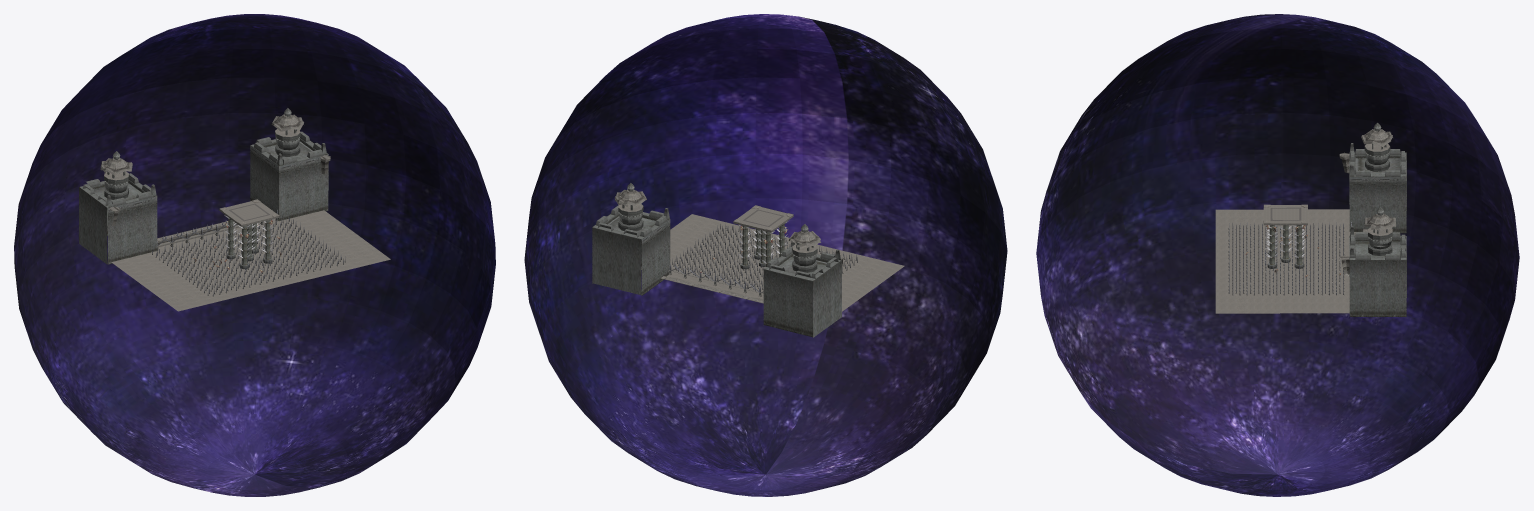
Rendered from PitBottom.glb.
3 views of the same model, side by side, from view 1: azimuth 30°, elevation 25°; view 2: azimuth 150°, elevation 25°; view 3: azimuth 270°, elevation 25° (orthographic).
Parts seen in each view (by area): view 1: Sphere, DrawCa2006_70da0362.d_DrawCa2006_70da03, DrawCal561_83d2f6d3.d_DrawCal561_83d2f6, DrawCa1788_060c61bc.d_DrawCa1788_060c61, DrawCa1773_060c61bc.d_DrawCa1773_060c61, DrawCa2359_060c61bc.d_DrawCa2359_060c61, DrawCa1772_060c61bc.d_DrawCa1772_060c61, DrawCa2006_02f9a41a.d_DrawCa2006_02f9a4, DrawCa2190_060c61bc.d_DrawCa2190_060c61, DrawCa1787_060c61bc.d_DrawCa1787_060c61; view 2: Sphere, DrawCa2006_70da0362.d_DrawCa2006_70da03, DrawCa2358_060c61bc.d_DrawCa2358_060c61, DrawCa2357_060c61bc.d_DrawCa2357_060c61, DrawCal561_83d2f6d3.d_DrawCal561_83d2f6, DrawCa2359_060c61bc.d_DrawCa2359_060c61, DrawCa2190_060c61bc.d_DrawCa2190_060c61, DrawCa1787_060c61bc.d_DrawCa1787_060c61, DrawCa1772_060c61bc.d_DrawCa1772_060c61, DrawCa2006_02f9a41a.d_DrawCa2006_02f9a4, DrawCa1794_62570f57.d_DrawCa1794_62570f; view 3: Sphere, DrawCa2006_70da0362.d_DrawCa2006_70da03, DrawCa2356_060c61bc.d_DrawCa2356_060c61, DrawCa2191_060c61bc.d_DrawCa2191_060c61, DrawCa2006_02f9a41a.d_DrawCa2006_02f9a4, DrawCa1053_83d2f6d3.d_DrawCa1053_83d2f6, DrawCa1787_060c61bc.d_DrawCa1787_060c61, DrawCa1772_060c61bc.d_DrawCa1772_060c61.
Boxes of the visible parts, box(x1,y1,x2,y2) form: Sphere: box(14, 14, 495, 496); DrawCa2006_70da0362.d_DrawCa2006_70da03: box(111, 210, 390, 311); DrawCal561_83d2f6d3.d_DrawCal561_83d2f6: box(152, 216, 345, 295); DrawCa1788_060c61bc.d_DrawCa1788_060c61: box(107, 203, 157, 264); DrawCa1773_060c61bc.d_DrawCa1773_060c61: box(279, 163, 328, 208); DrawCa2359_060c61bc.d_DrawCa2359_060c61: box(79, 187, 107, 264); DrawCa1772_060c61bc.d_DrawCa1772_060c61: box(251, 131, 328, 220); DrawCa2006_02f9a41a.d_DrawCa2006_02f9a4: box(176, 220, 346, 294); DrawCa2190_060c61bc.d_DrawCa2190_060c61: box(250, 153, 278, 220); DrawCa1787_060c61bc.d_DrawCa1787_060c61: box(80, 173, 156, 207); Sphere: box(524, 14, 1007, 496); DrawCa2006_70da0362.d_DrawCa2006_70da03: box(641, 214, 904, 311); DrawCa2358_060c61bc.d_DrawCa2358_060c61: box(763, 269, 812, 337); DrawCa2357_060c61bc.d_DrawCa2357_060c61: box(592, 227, 641, 295); DrawCal561_83d2f6d3.d_DrawCal561_83d2f6: box(670, 224, 857, 290); DrawCa2359_060c61bc.d_DrawCa2359_060c61: box(813, 260, 841, 337); DrawCa2190_060c61bc.d_DrawCa2190_060c61: box(641, 226, 670, 295); DrawCa1787_060c61bc.d_DrawCa1787_060c61: box(764, 242, 840, 280); DrawCa1772_060c61bc.d_DrawCa1772_060c61: box(593, 205, 669, 266); DrawCa2006_02f9a41a.d_DrawCa2006_02f9a4: box(671, 228, 850, 294); DrawCa1794_62570f57.d_DrawCa1794_62570f: box(742, 226, 771, 266); Sphere: box(1036, 14, 1519, 496); DrawCa2006_70da0362.d_DrawCa2006_70da03: box(1215, 209, 1355, 313); DrawCa2356_060c61bc.d_DrawCa2356_060c61: box(1349, 260, 1406, 316); DrawCa2191_060c61bc.d_DrawCa2191_060c61: box(1349, 184, 1406, 233); DrawCa2006_02f9a41a.d_DrawCa2006_02f9a4: box(1229, 231, 1346, 296); DrawCa1053_83d2f6d3.d_DrawCa1053_83d2f6: box(1228, 242, 1329, 294); DrawCa1787_060c61bc.d_DrawCa1787_060c61: box(1349, 143, 1406, 176); DrawCa1772_060c61bc.d_DrawCa1772_060c61: box(1349, 226, 1406, 259).
Size of the model in its own units: 23.55 by 23.55 by 23.55.
18 materials, 18 textured.
